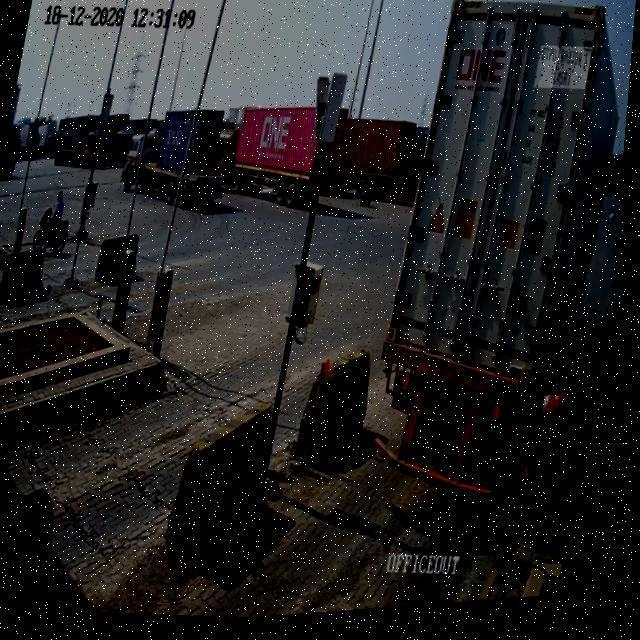container_number_h: (535, 51, 594, 103)
